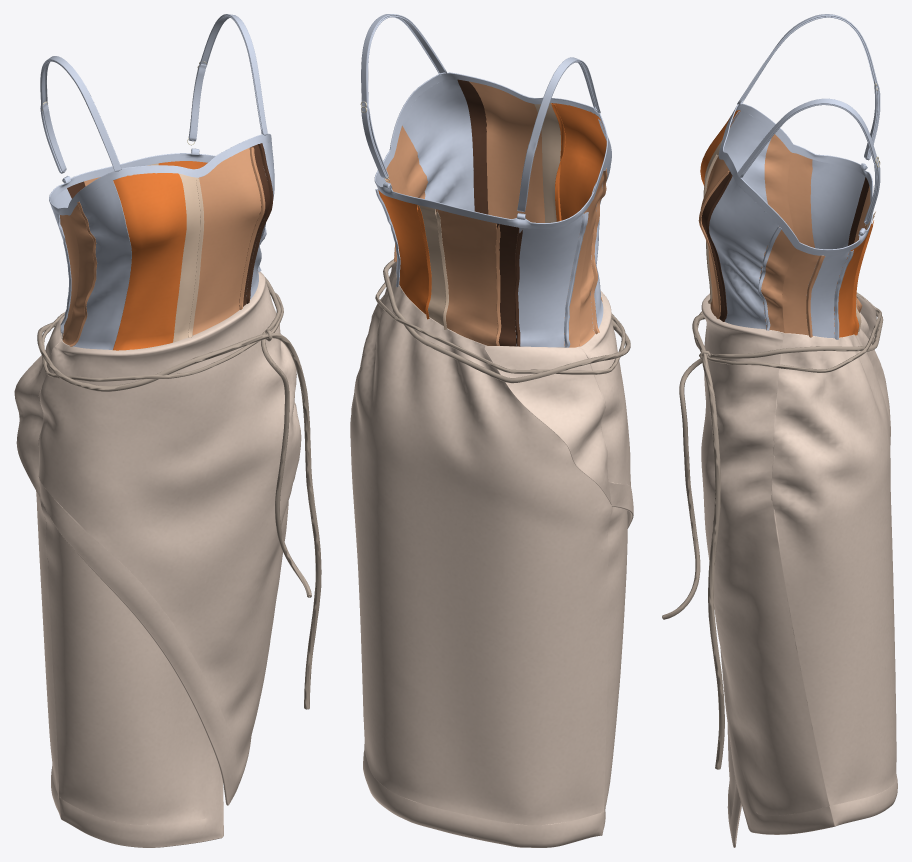
The model's file is color-blocked_flse_two-piece_dress.glb.
3 views of the same model, side by side, from view 1: azimuth 30°, elevation 25°; view 2: azimuth 150°, elevation 25°; view 3: azimuth 270°, elevation 25° (orthographic). The views are drawn at different scales.
Parts seen in each view (by area): view 1: Object_16, Object_14, Object_15, Object_10, Object_9, Object_11, Object_13, Object_12, Object_7, Object_17, Object_6, Object_5; view 2: Object_12, Object_13, Object_15, Object_9, Object_11, Object_14, Object_16, Object_17, Object_7, Object_10, Object_6; view 3: Object_12, Object_16, Object_15, Object_13, Object_10, Object_9, Object_11, Object_7, Object_17, Object_6, Object_8.
Boxes of the visible parts, x1=… form: Object_16: x1=38, y1=271, x2=301, y2=773; Object_14: x1=38, y1=341, x2=208, y2=825; Object_15: x1=63, y1=133, x2=274, y2=350; Object_10: x1=38, y1=273, x2=259, y2=847; Object_9: x1=14, y1=314, x2=321, y2=709; Object_11: x1=40, y1=56, x2=273, y2=346; Object_13: x1=49, y1=153, x2=215, y2=817; Object_12: x1=36, y1=333, x2=63, y2=796; Object_7: x1=37, y1=277, x2=311, y2=597; Object_17: x1=188, y1=14, x2=267, y2=141; Object_6: x1=41, y1=292, x2=283, y2=381; Object_5: x1=42, y1=64, x2=206, y2=173; Object_12: x1=350, y1=262, x2=611, y2=825; Object_13: x1=363, y1=150, x2=604, y2=847; Object_15: x1=389, y1=72, x2=611, y2=346; Object_9: x1=484, y1=319, x2=630, y2=505; Object_11: x1=383, y1=57, x2=607, y2=347; Object_14: x1=581, y1=302, x2=627, y2=811; Object_16: x1=580, y1=291, x2=630, y2=486; Object_17: x1=361, y1=14, x2=446, y2=178; Object_7: x1=383, y1=259, x2=630, y2=383; Object_10: x1=375, y1=189, x2=633, y2=835; Object_6: x1=375, y1=276, x2=625, y2=374; Object_12: x1=771, y1=312, x2=896, y2=805; Object_16: x1=701, y1=293, x2=829, y2=815; Object_15: x1=700, y1=103, x2=799, y2=332; Object_13: x1=782, y1=144, x2=897, y2=826; Object_10: x1=720, y1=211, x2=875, y2=847; Object_9: x1=692, y1=294, x2=876, y2=769; Object_11: x1=698, y1=14, x2=880, y2=330; Object_7: x1=662, y1=292, x2=883, y2=619; Object_17: x1=737, y1=98, x2=880, y2=224; Object_6: x1=694, y1=307, x2=881, y2=372; Object_8: x1=699, y1=163, x2=873, y2=361.
Size of the model in its own units: 352 by 1062 by 292.
Materials: 4 (1 with a texture image).
